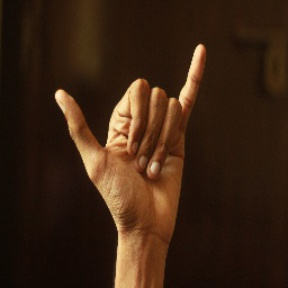J: (53, 42, 211, 215)
